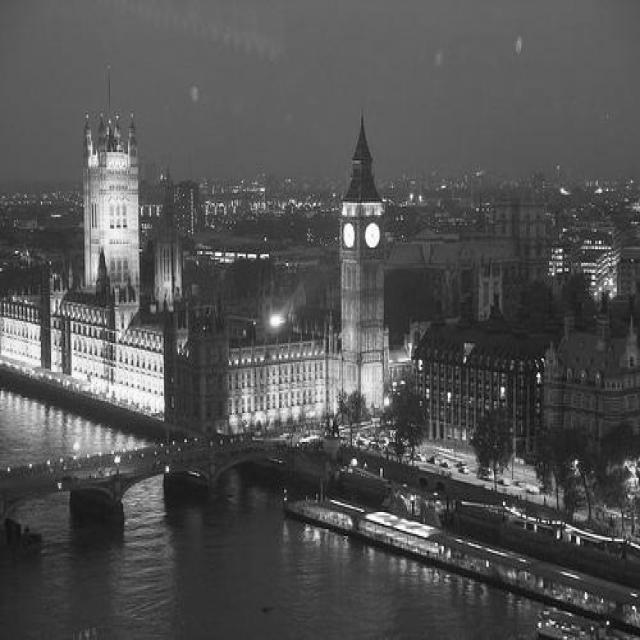vehicle: (526, 485, 543, 494), (498, 480, 511, 488), (430, 456, 440, 466), (441, 461, 453, 469), (458, 466, 468, 474)
